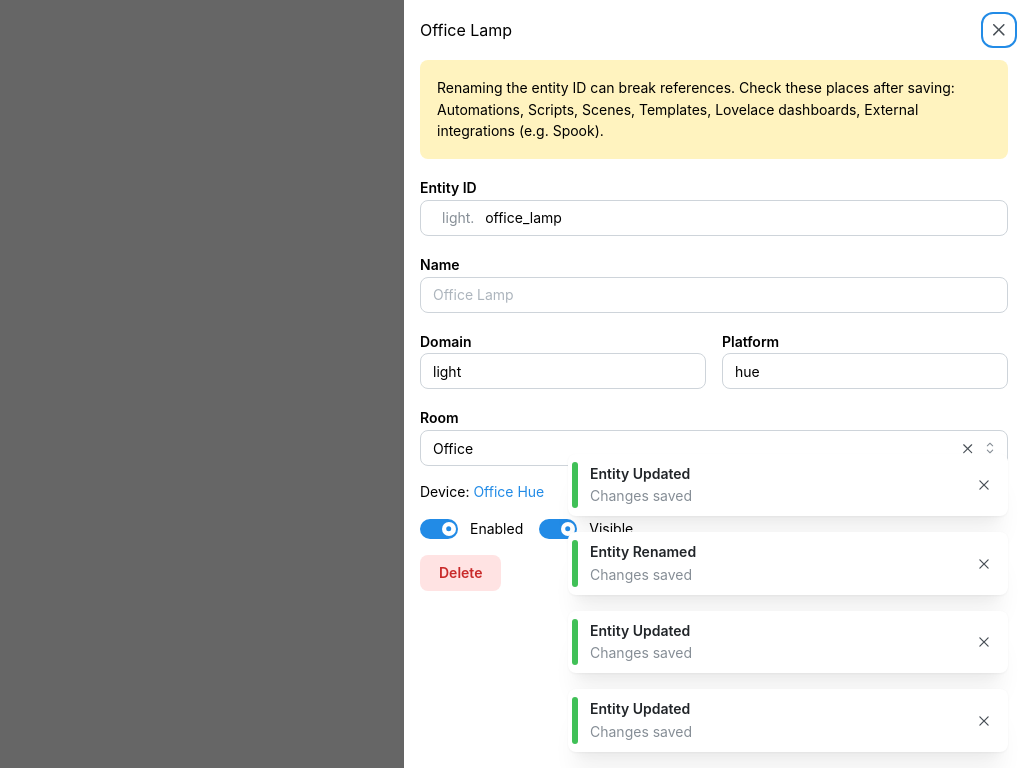
Test case: EditEntityDrawer › Device link click navigates to /devices?device=<device_id>
What coordinates should you click on to do the following:
click the button "Office Hue"
I would click on:
 (509, 492)
Its box is [473, 482, 544, 503].
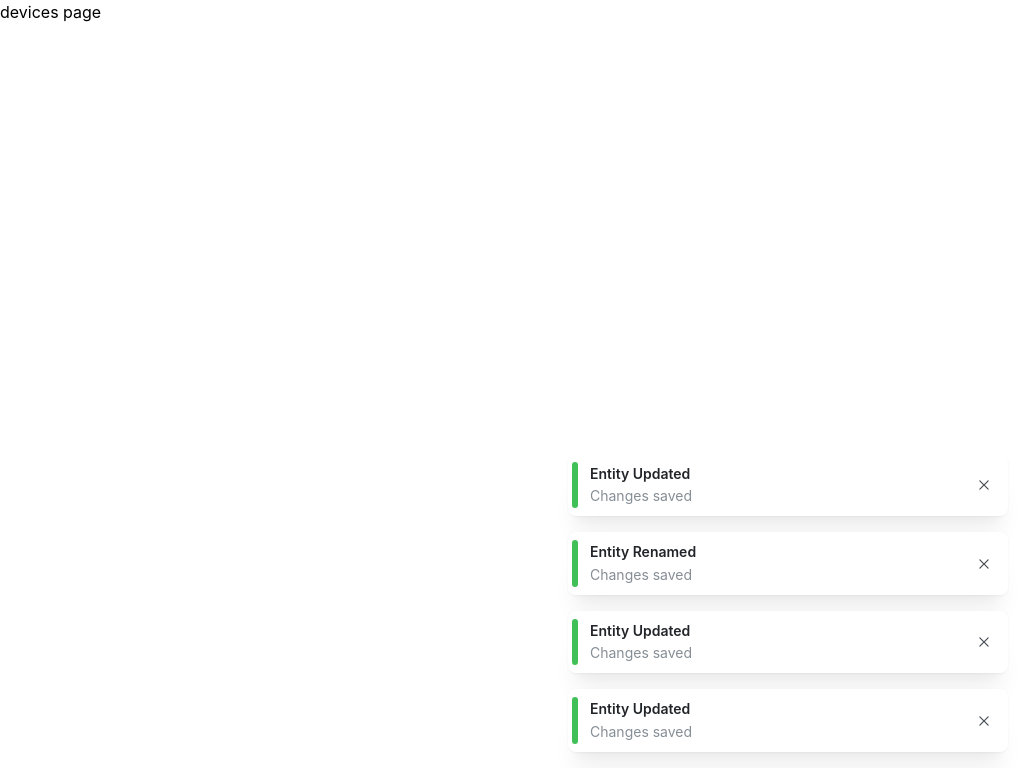
Now the text "devices page" is shown, box [0, 2, 101, 22]
